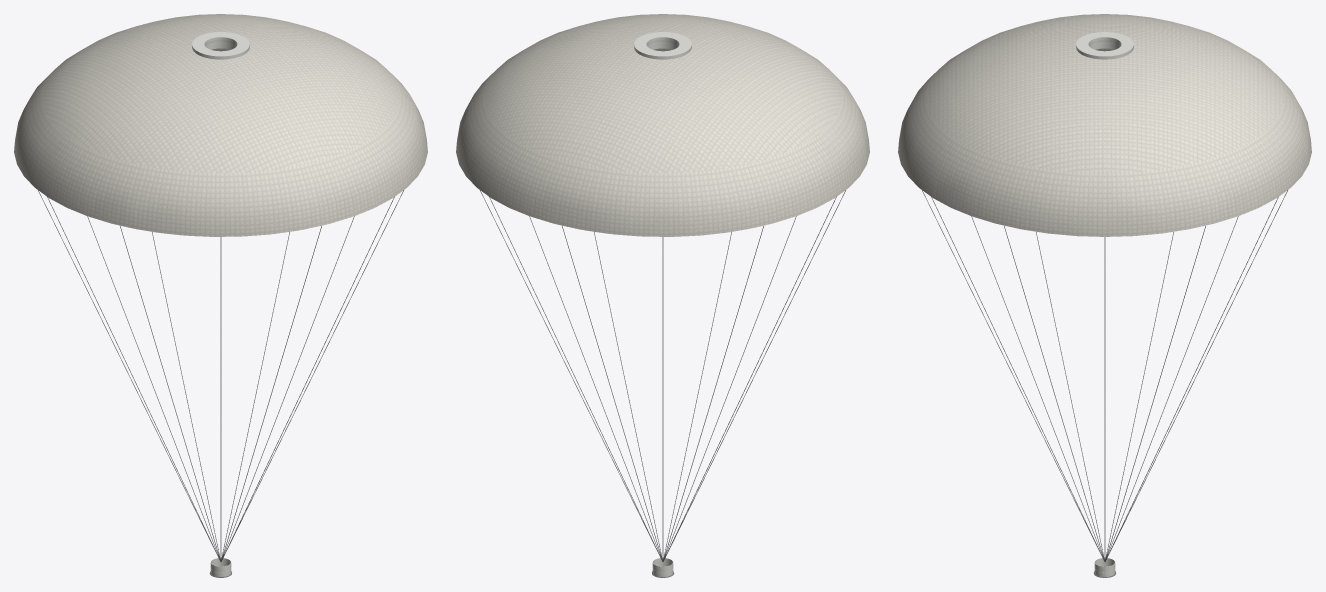
File: ax_util_25_parachute_pack_l_deployed.glb
The picture shows the model from 3 angles, left to right: view 1: azimuth 30°, elevation 25°; view 2: azimuth 150°, elevation 25°; view 3: azimuth 270°, elevation 25°; orthographic projection.
Visible parts, largest first — view 1: canopy, risers, vent_band; view 2: canopy, risers, vent_band; view 3: canopy, risers, vent_band.
Boxes of the visible parts, bbox=[...] form: canopy: bbox=[14, 14, 427, 236]; risers: bbox=[38, 190, 403, 561]; vent_band: bbox=[192, 32, 249, 59]; canopy: bbox=[456, 14, 869, 236]; risers: bbox=[480, 190, 845, 561]; vent_band: bbox=[634, 32, 691, 59]; canopy: bbox=[898, 14, 1311, 236]; risers: bbox=[922, 190, 1287, 561]; vent_band: bbox=[1076, 32, 1133, 59].
Bounding box in the file's own units: 23.97 × 33.82 × 23.99.
3 materials, 2 textured.
